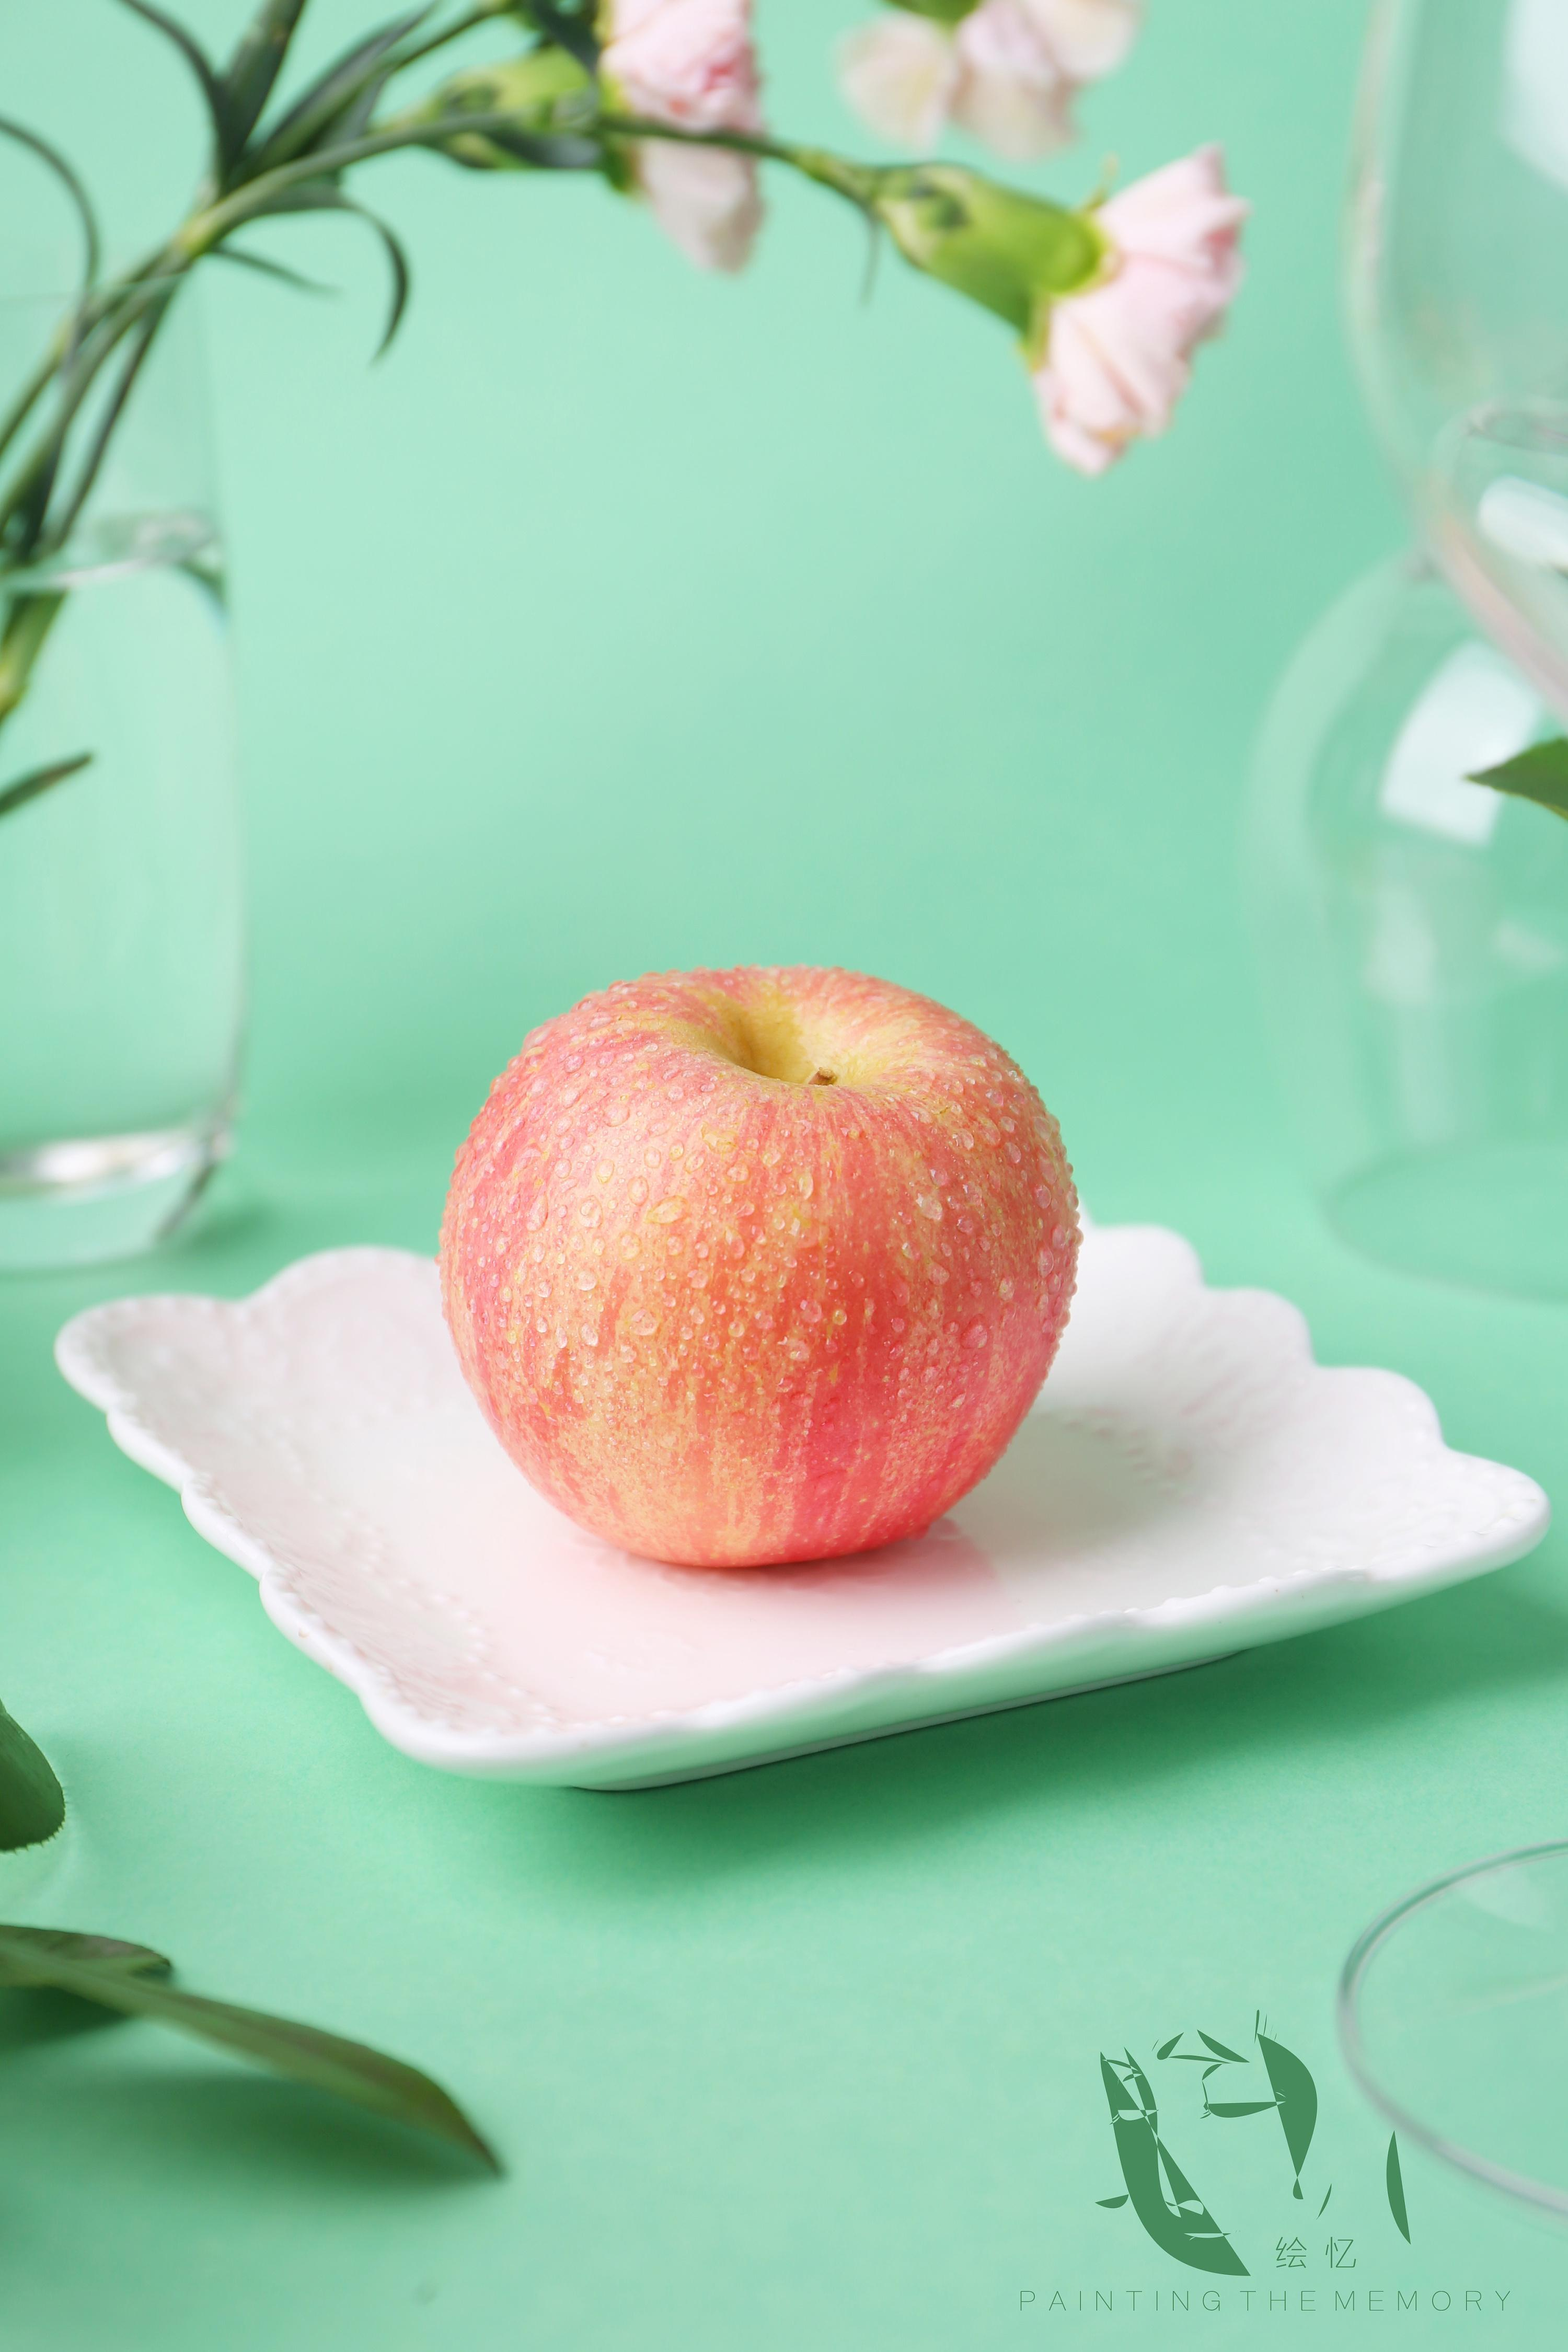apple: (429, 952, 1088, 1557)
